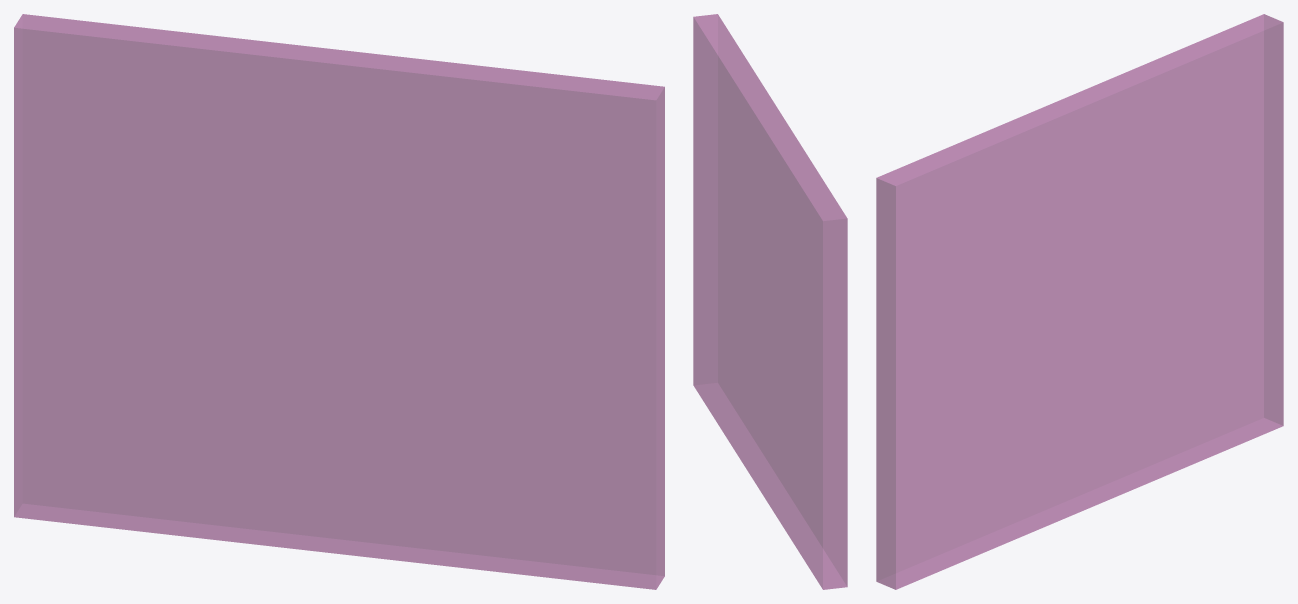
Rendered from SM_Bld_Base_45_Wall_01_Collision.fbx.
3 renders of one model, left to right at view 1: azimuth 30°, elevation 25°; view 2: azimuth 150°, elevation 25°; view 3: azimuth 270°, elevation 25°, orthographic. The views are drawn at different scales.
Visible parts, largest first — view 1: SM_Bld_Base_45_Wall_01_Collision; view 2: SM_Bld_Base_45_Wall_01_Collision; view 3: SM_Bld_Base_45_Wall_01_Collision.
Part boxes in pixels (x1=…): SM_Bld_Base_45_Wall_01_Collision: x1=14, y1=14, x2=664, y2=589; SM_Bld_Base_45_Wall_01_Collision: x1=693, y1=14, x2=847, y2=589; SM_Bld_Base_45_Wall_01_Collision: x1=876, y1=14, x2=1283, y2=589.
Size of the model in its own units: 279 by 305 by 279.
